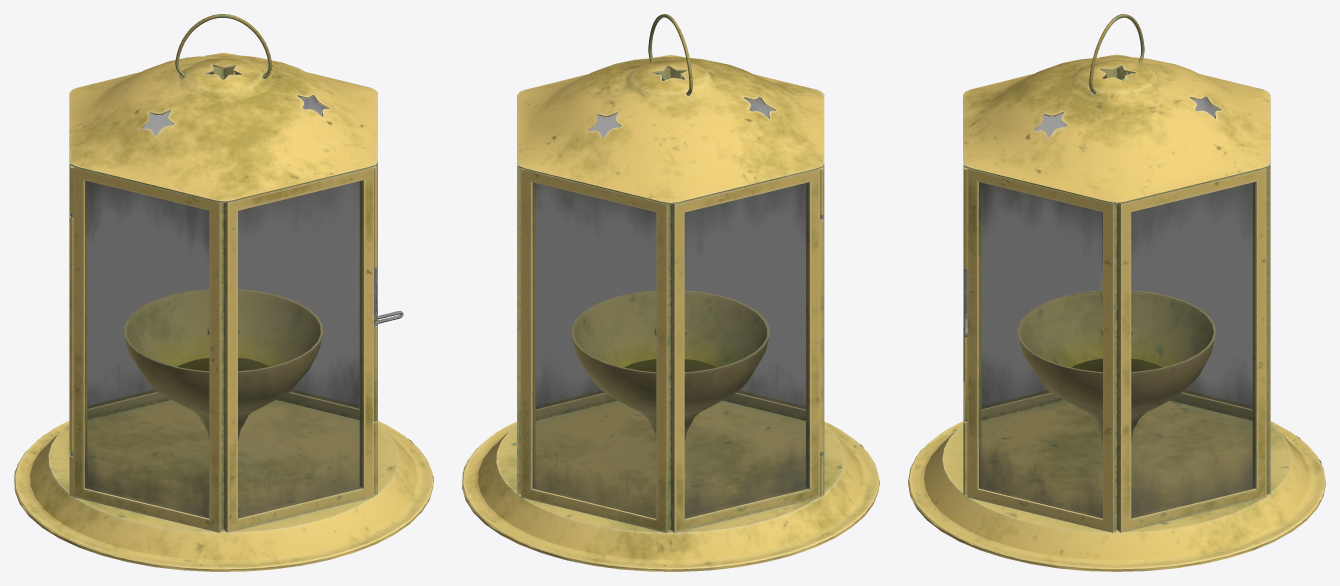
File: brass-lantern.glb
The picture shows the model from 3 angles, left to right: view 1: azimuth 30°, elevation 25°; view 2: azimuth 150°, elevation 25°; view 3: azimuth 270°, elevation 25°; orthographic projection.
Visible parts, largest first — view 1: brass_diya_lantern, brass_diya_lantern_connection; view 2: brass_diya_lantern, brass_diya_lantern_connection; view 3: brass_diya_lantern, brass_diya_lantern_connection.
Part boxes in pixels (x1,y1,x2,y2): brass_diya_lantern: (14, 53, 433, 571); brass_diya_lantern_connection: (175, 14, 272, 78); brass_diya_lantern: (462, 55, 879, 571); brass_diya_lantern_connection: (648, 14, 692, 95); brass_diya_lantern: (908, 54, 1325, 571); brass_diya_lantern_connection: (1089, 14, 1144, 93).
Bounding box in the file's own units: 0.123 × 0.1518 × 0.123.
Materials: 4 (4 with a texture image).
